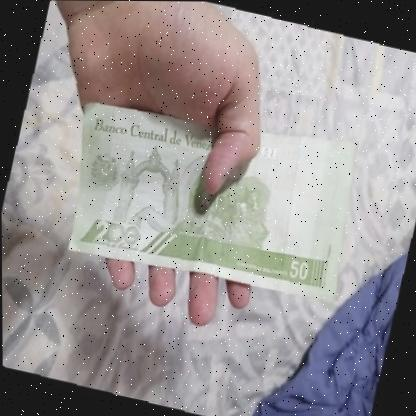fifty-back-vef: (54, 81, 366, 308)
